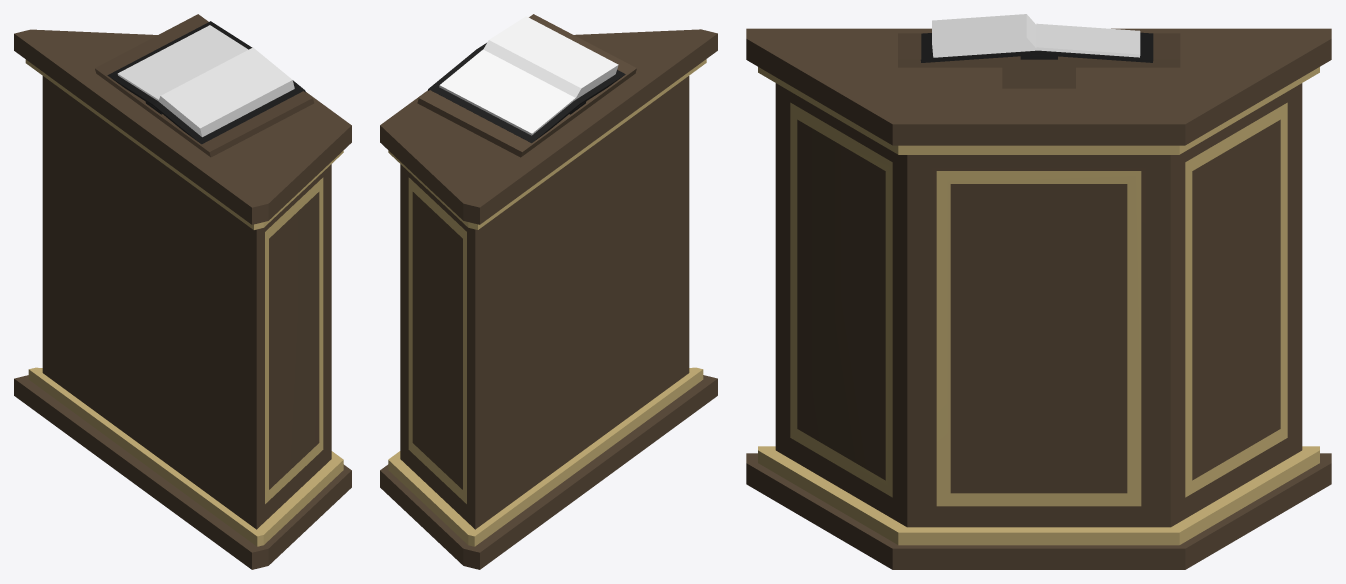
The model's file is SM_churchStand.glb.
3 views of the same model, side by side, from view 1: azimuth 30°, elevation 25°; view 2: azimuth 150°, elevation 25°; view 3: azimuth 270°, elevation 25° (orthographic). The views are drawn at different scales.
Parts seen in each view (by area): view 1: SM_churchStand; view 2: SM_churchStand; view 3: SM_churchStand.
Boxes of the visible parts, x1=… form: SM_churchStand: x1=14, y1=14, x2=351, y2=569; SM_churchStand: x1=380, y1=14, x2=717, y2=569; SM_churchStand: x1=746, y1=14, x2=1331, y2=569.
Bounding box in the file's own units: 0.483 × 1.19 × 1.25.
1 material, 1 textured.
